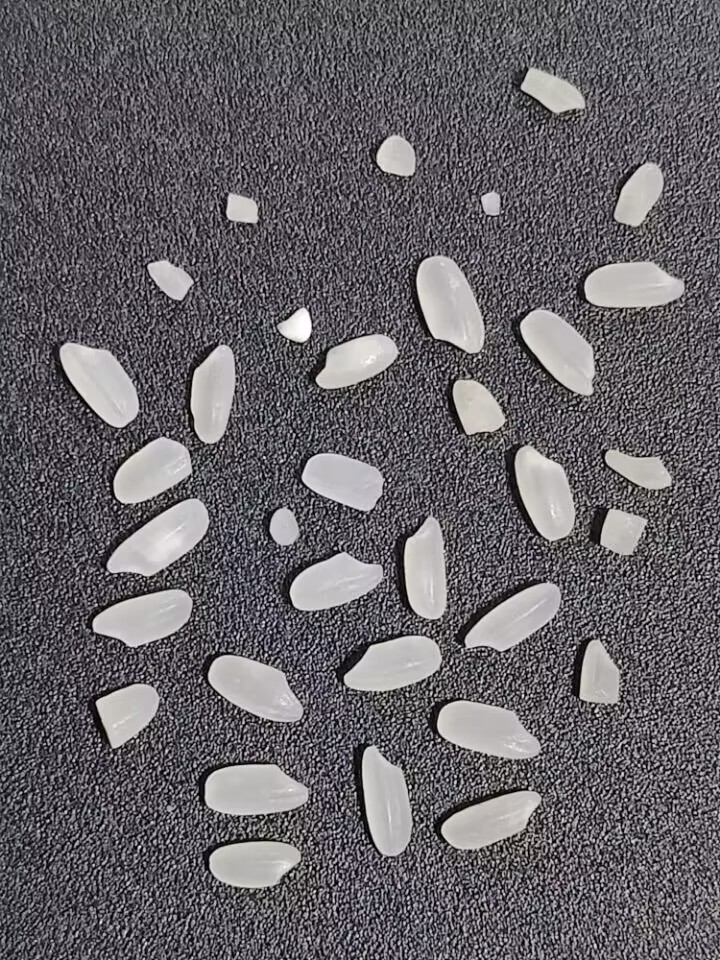broken: (106, 432, 197, 512), (514, 60, 591, 123), (608, 157, 671, 231), (603, 440, 681, 498), (94, 683, 160, 749), (449, 376, 507, 439), (589, 506, 655, 561), (578, 637, 622, 705), (143, 254, 196, 305), (371, 129, 422, 179), (261, 505, 304, 553), (219, 187, 267, 227), (272, 303, 314, 347), (474, 184, 509, 227)
rice: (100, 492, 212, 579), (413, 252, 496, 360), (56, 336, 145, 432), (83, 585, 198, 655), (205, 651, 313, 725), (464, 581, 562, 653), (283, 548, 389, 614), (511, 441, 578, 542), (519, 308, 595, 397), (196, 760, 312, 818), (436, 700, 542, 760), (440, 790, 542, 851), (183, 335, 237, 447), (341, 634, 443, 693), (361, 744, 412, 857), (315, 329, 401, 392), (300, 451, 385, 512), (584, 258, 686, 308), (200, 840, 302, 888), (404, 515, 448, 620)
